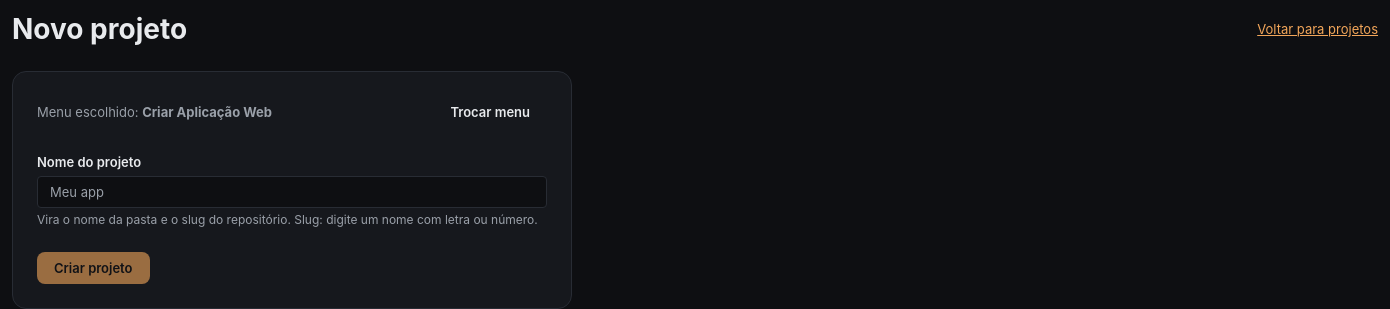
PaginaNovoProjeto › ?preset= pré-seleciona o menu e "trocar menu" volta para a grade
(page scrolled)
Expected: the text "Criar Aplicação Web" is shown, [142,104,272,120]
Expected: the field labelled "Nome do projeto" is shown, [37,176,547,208]
Click the button "Trocar menu".
click(490, 112)  # box [434,96,547,128]
(page scrolled)
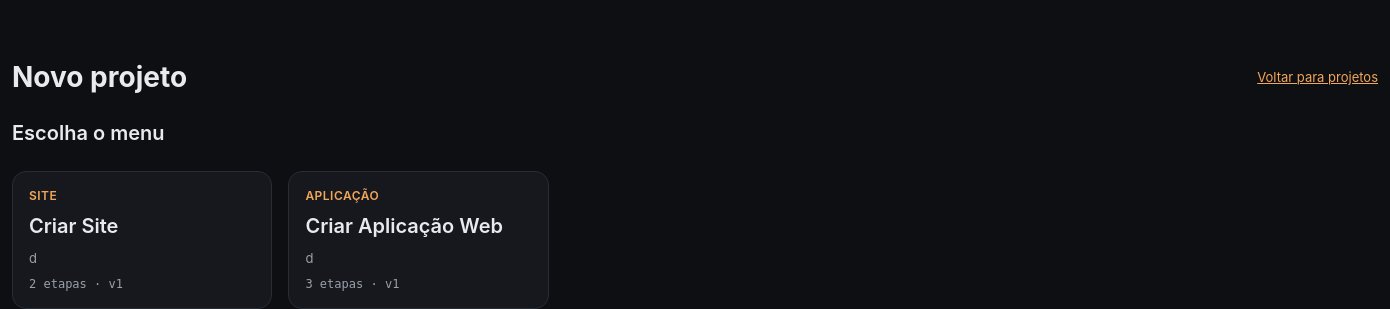
Expected: the button "Site Criar Site d 2 etapas · v1" is shown, [12,171,272,308]
